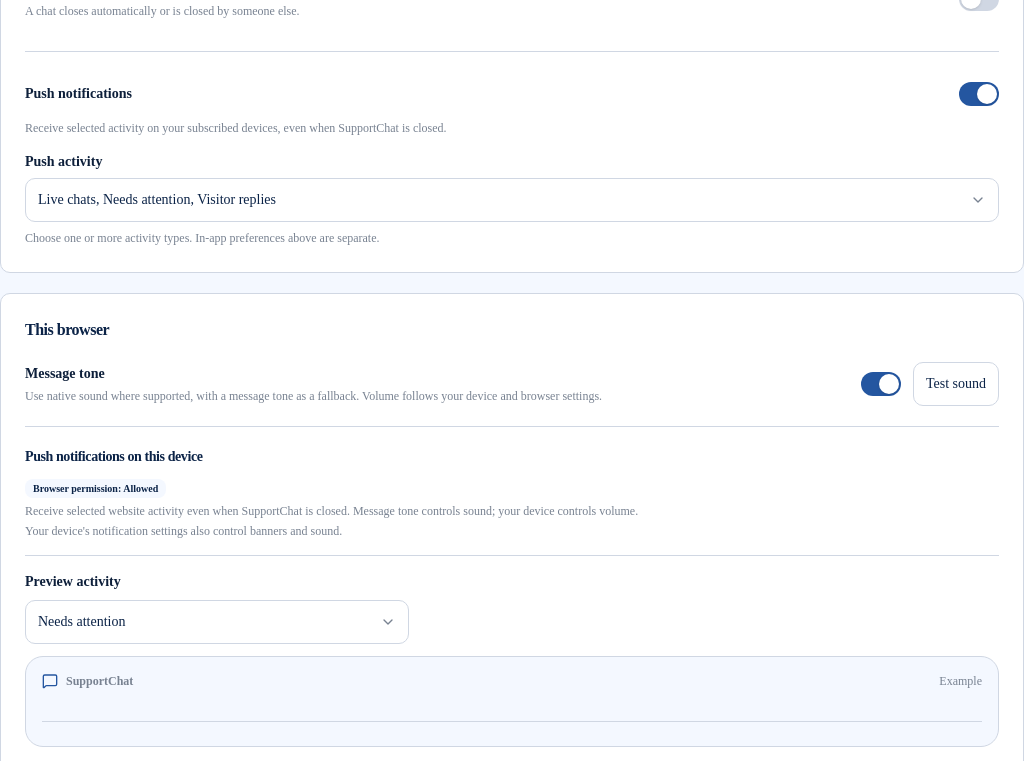
it: sound preview uses native sound where possible on Chrome on macOS
(page scrolled)
Click the button "Test sound".
click(956, 384)  # box [913,362,999,406]
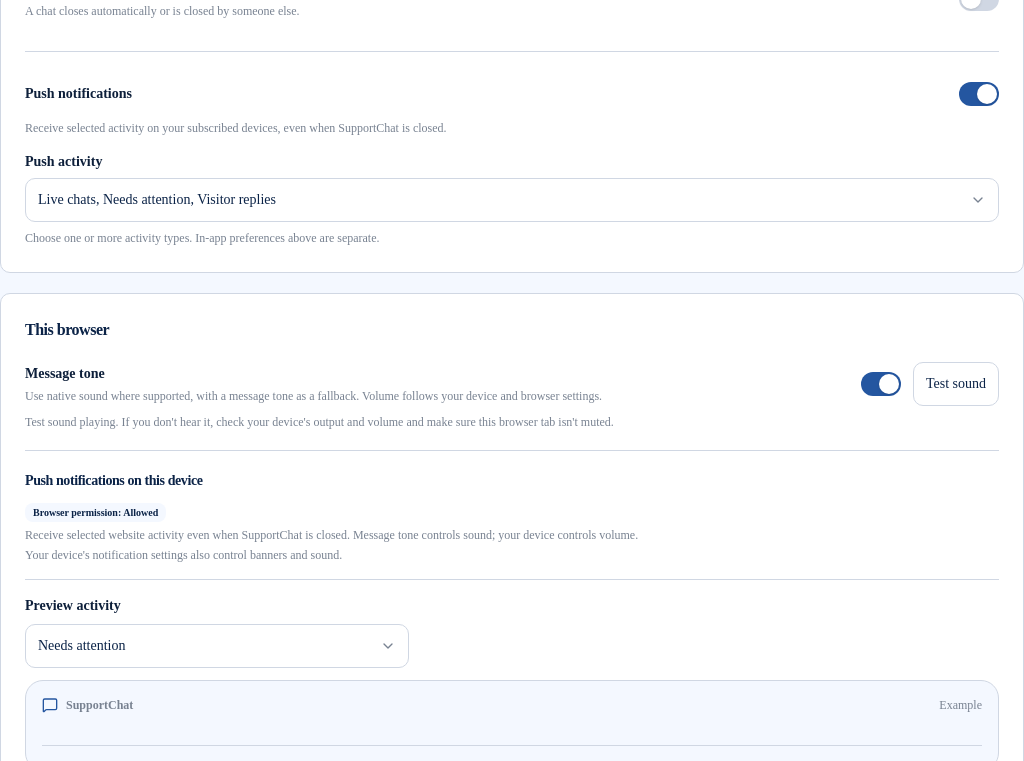
Check: the text "Test sound playing" is shown, box [25,415,614,429]
